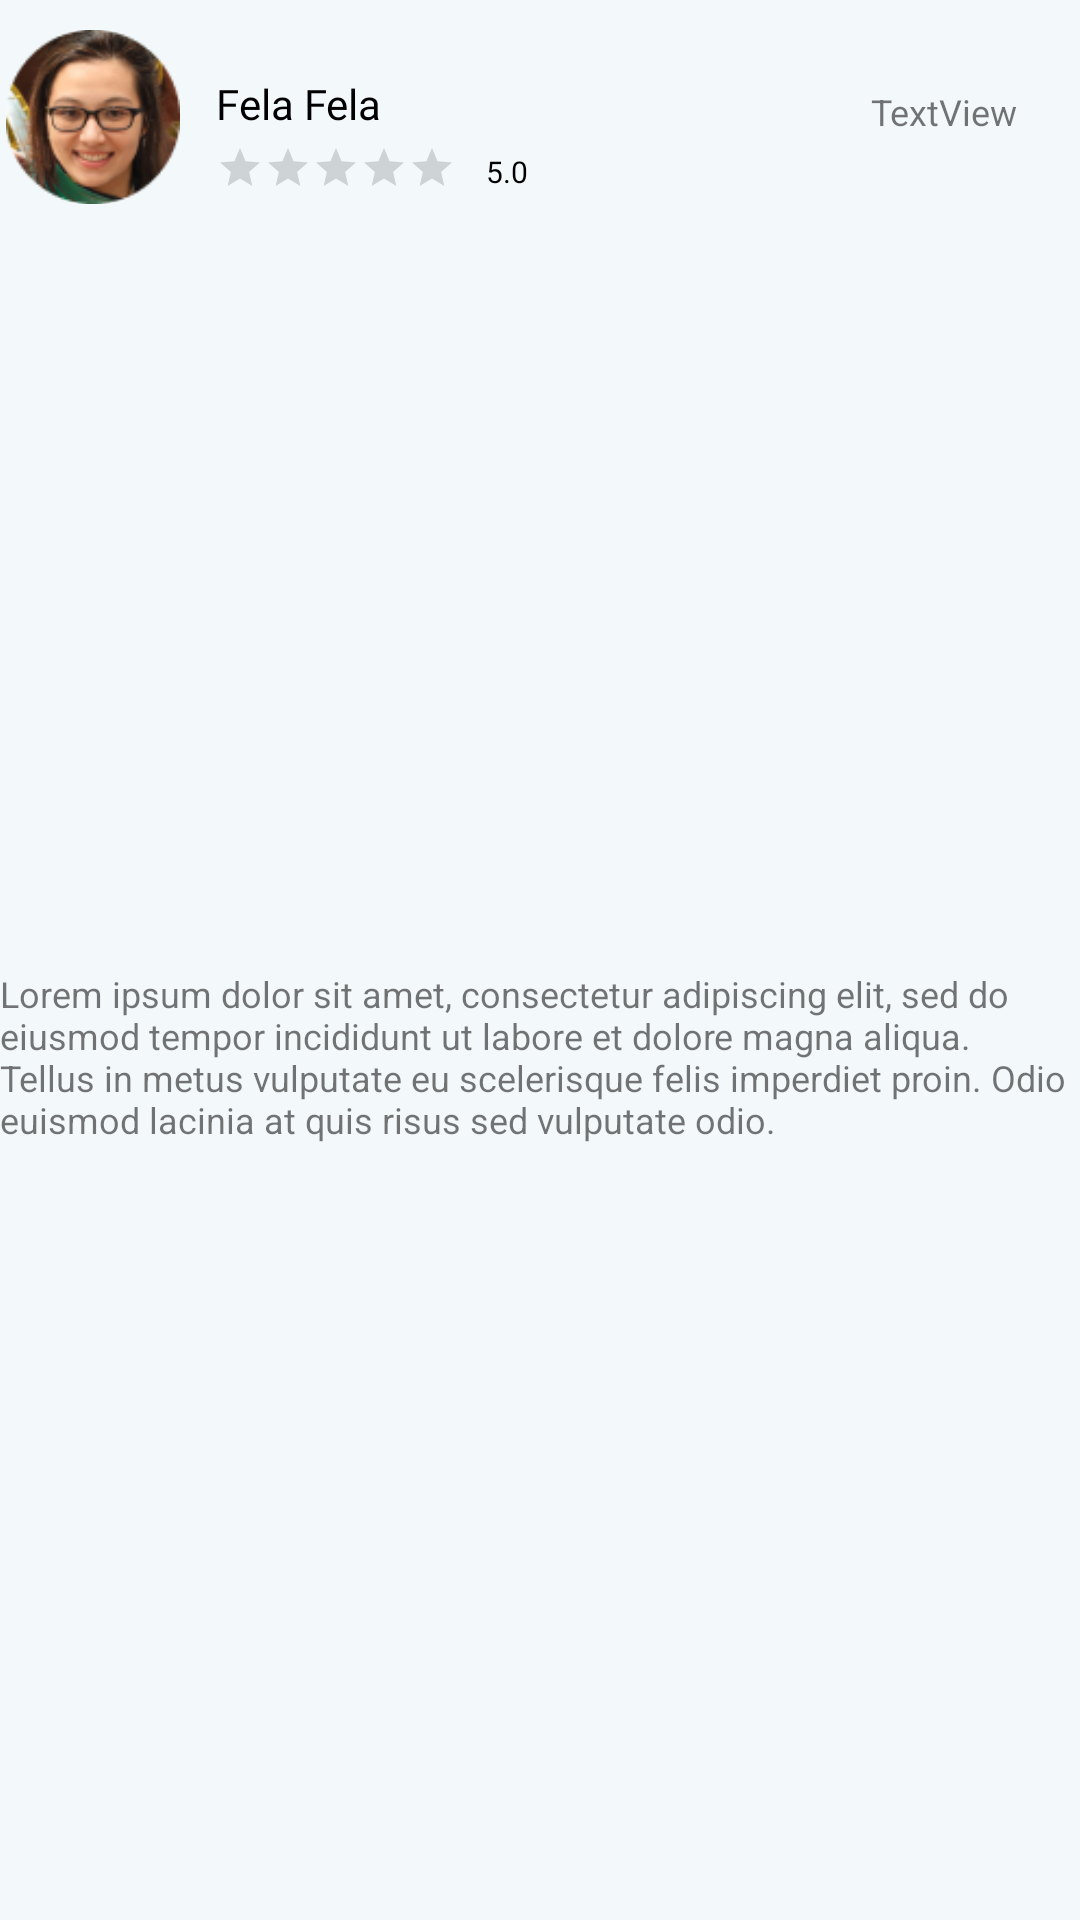

Icons on this 1080x1920 Android screen, each with its box as bbox=(x1, y1, x2, y2):
sampleauthor: bbox=(6, 30, 180, 204)
